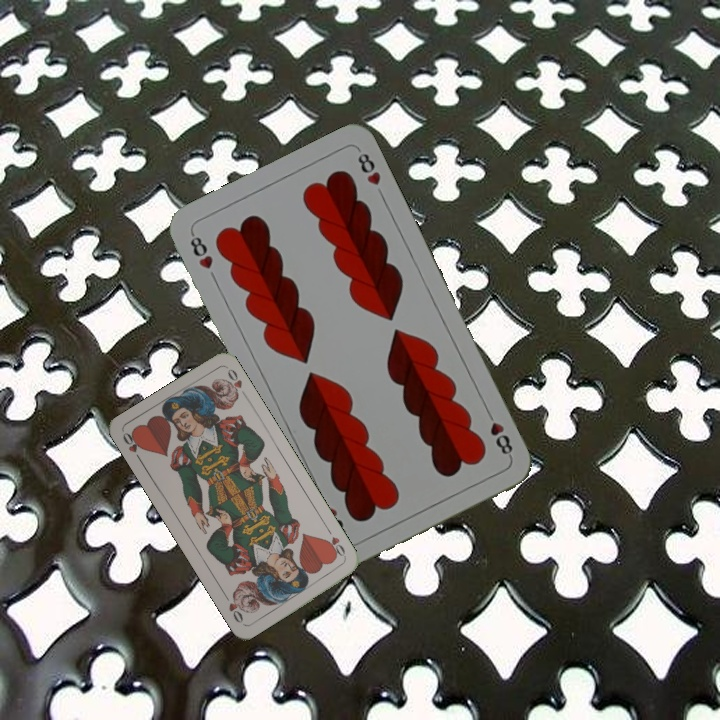H8: (482, 406, 516, 460), (186, 228, 216, 272)
HO: (321, 524, 349, 561), (118, 428, 145, 466)
